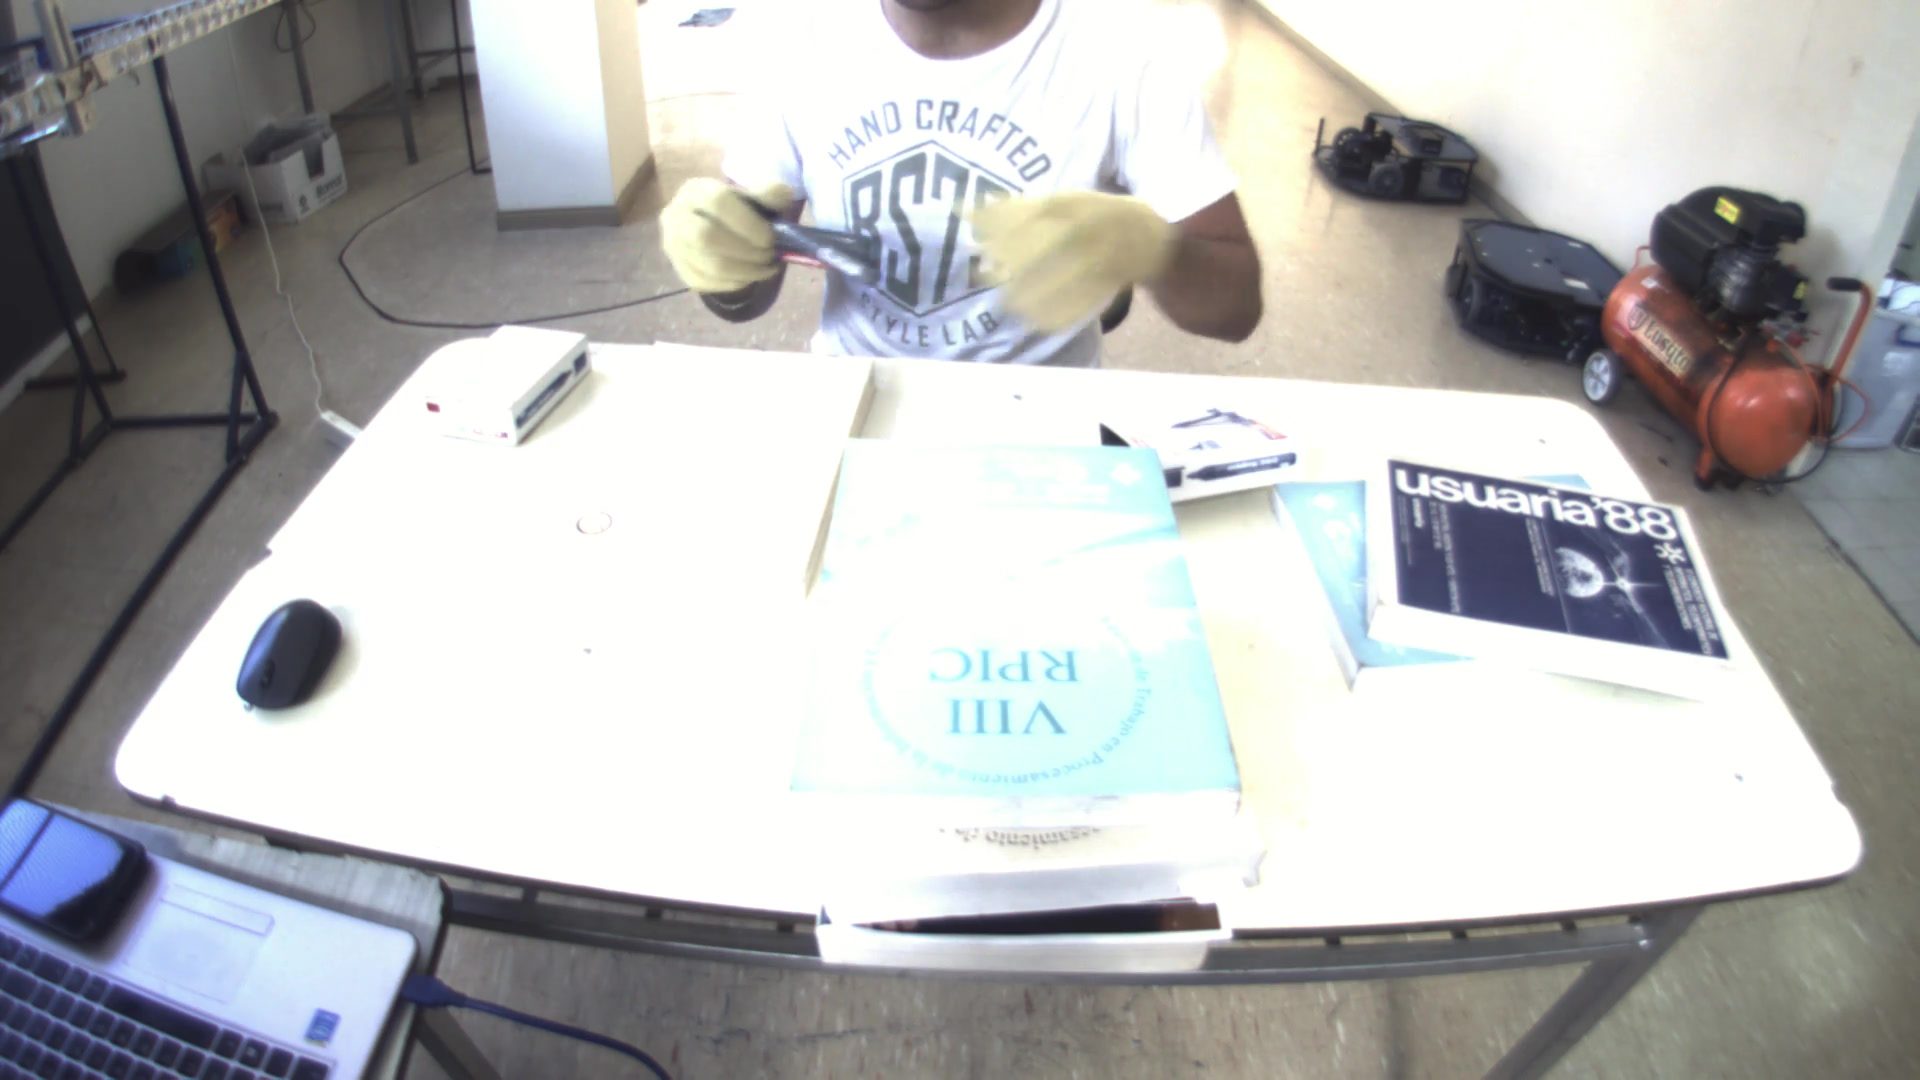hand: (953, 167, 1178, 330), (646, 171, 791, 305)
